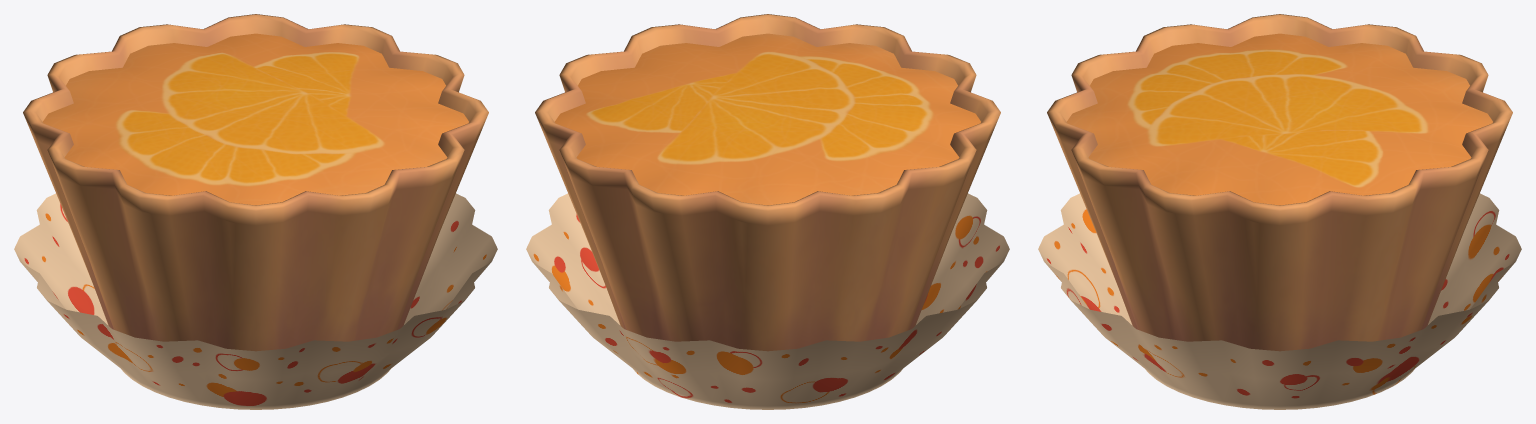
Rendered from cupcake_orange.fbx.
3 views of the same model, side by side, from view 1: azimuth 30°, elevation 25°; view 2: azimuth 150°, elevation 25°; view 3: azimuth 270°, elevation 25° (orthographic).
Visible parts, largest first — view 1: cake_basket_&_jelly; view 2: cake_basket_&_jelly; view 3: cake_basket_&_jelly.
Boxes of the visible parts, x1,y1,x2,y2 form: cake_basket_&_jelly: (14,14,497,409); cake_basket_&_jelly: (526,14,1009,409); cake_basket_&_jelly: (1038,14,1521,409).
Bounding box in the file's own units: 11.77 × 6.49 × 11.77.
